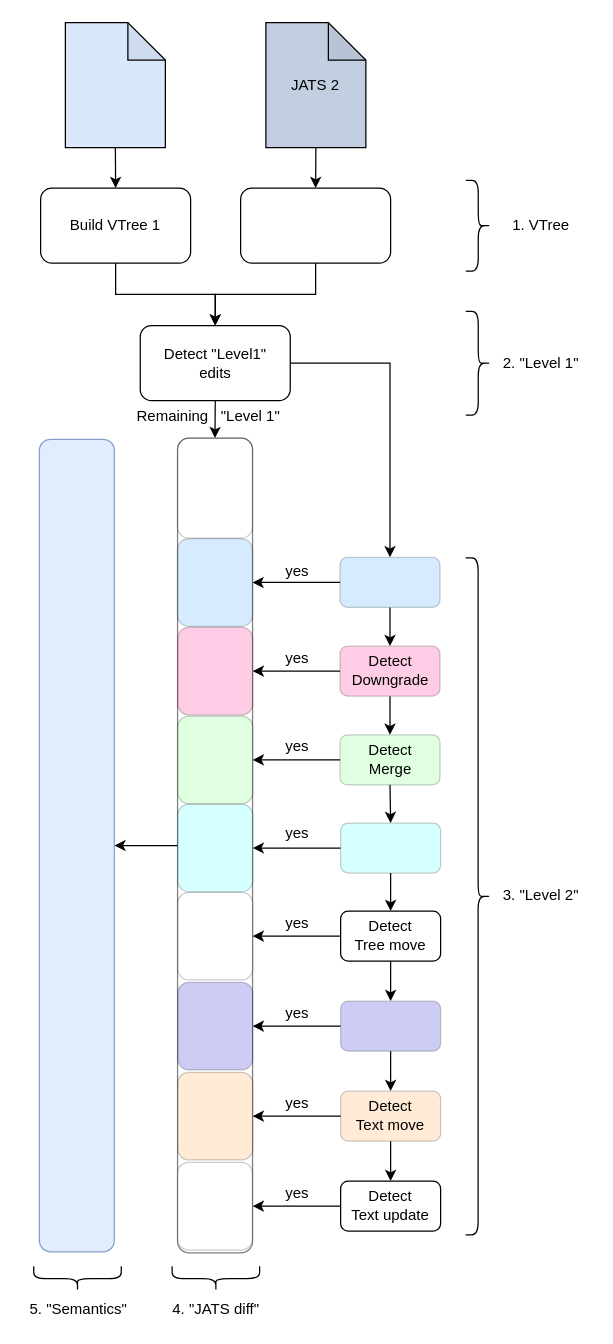
The diagram is 613 pixels wide and 1344 high, and some of its shapes have lost their labels. The box of each missing label's shape, as (x1, y1, x2, y2) in pixels:
Build VTree 2: (239, 187, 391, 263)
Detect Split: (339, 822, 441, 873)
Detect Style edit: (339, 1000, 441, 1051)
Detect Upgrade: (339, 556, 440, 607)
JATS 1: (64, 21, 165, 148)
